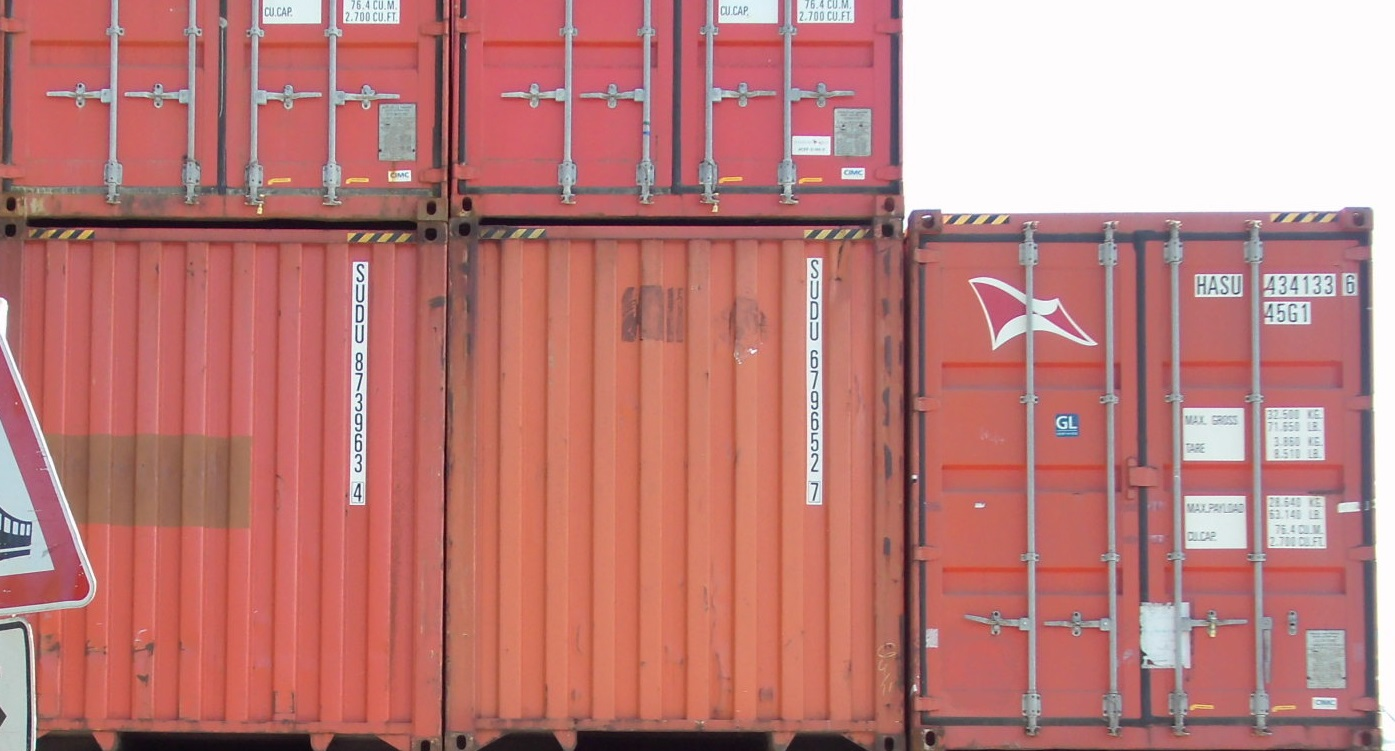container_door: (912, 209, 1382, 751), (457, 1, 904, 220), (8, 1, 444, 206)
container_no_door: (457, 220, 904, 746), (10, 220, 445, 751)
